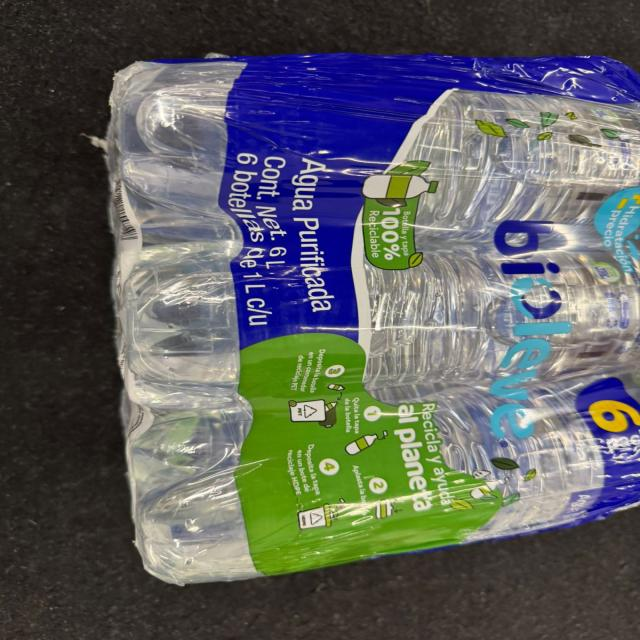Agua Bioleve 1L 6pack: (102, 48, 640, 583)
